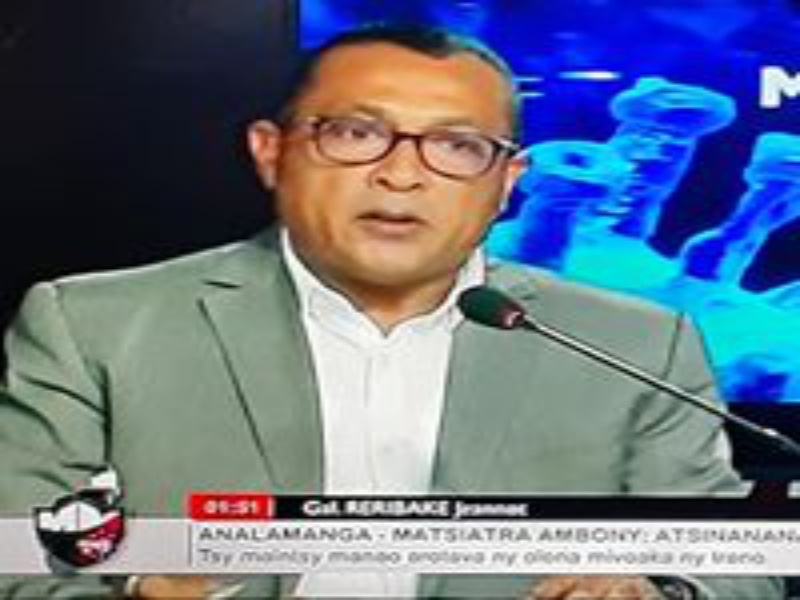TsisyArotava: (246, 17, 536, 304)
